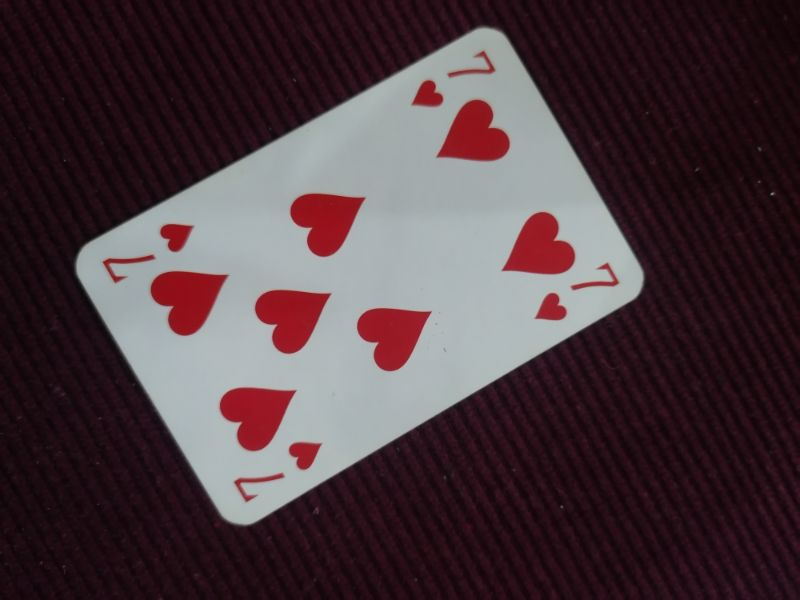7h: (98, 217, 202, 293), (224, 435, 329, 509), (531, 258, 627, 329), (406, 43, 498, 116)
